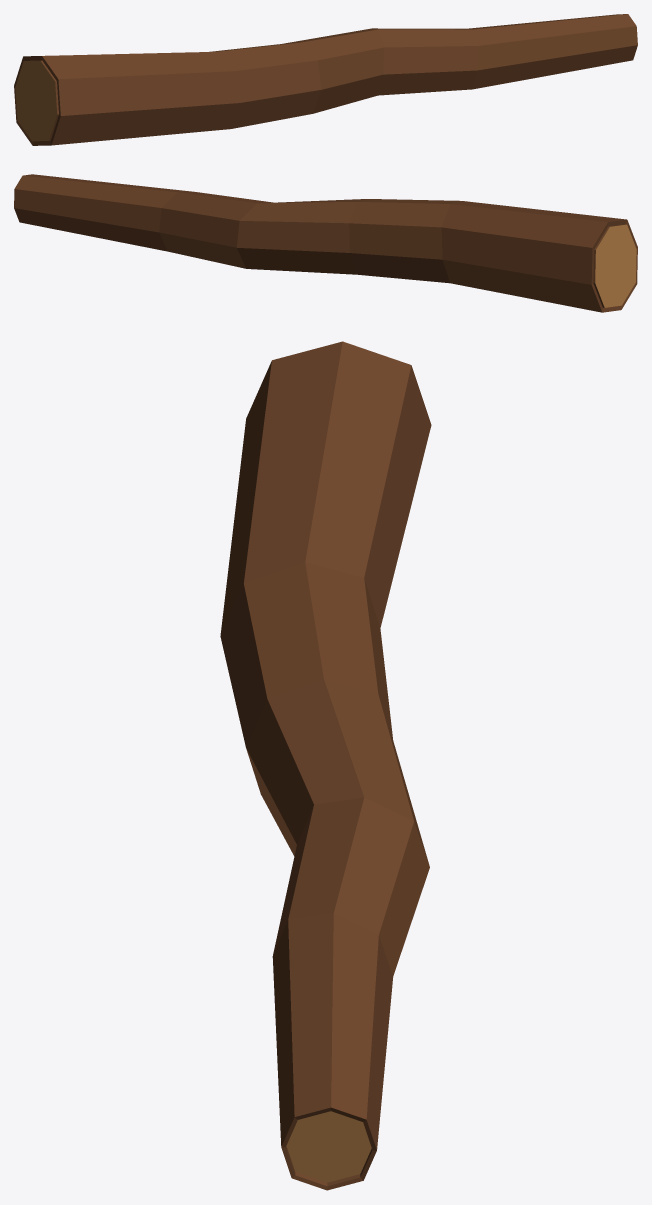
Rendered from TreeBranch.fbx.
3 views of the same model, one above another, from view 1: azimuth 30°, elevation 25°; view 2: azimuth 150°, elevation 25°; view 3: azimuth 270°, elevation 25° (orthographic). The views are drawn at different scales.
Visible parts, largest first — view 1: TreeBranch2; view 2: TreeBranch2; view 3: TreeBranch2.
Boxes of the visible parts, box(x1,y1,x2,y2) form: TreeBranch2: box(14, 14, 637, 145); TreeBranch2: box(14, 174, 637, 312); TreeBranch2: box(220, 341, 431, 1190).
Bounding box in the file's own units: 3.15 × 0.7214 × 0.4835.
